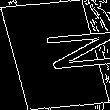N_W: (7, 31, 103, 79)
